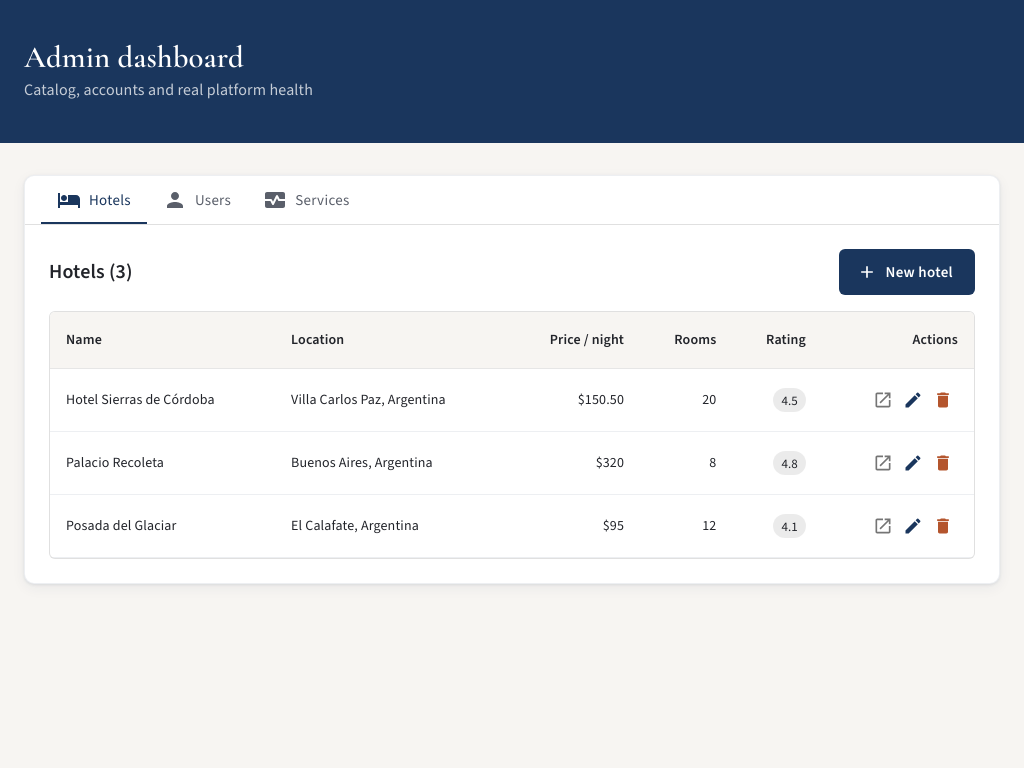
Test case: Admin Dashboard › self-delete: el botón del propio admin está deshabilitado con motivo
Click the tab "Users" at (197, 200), box [147,176,247,224]
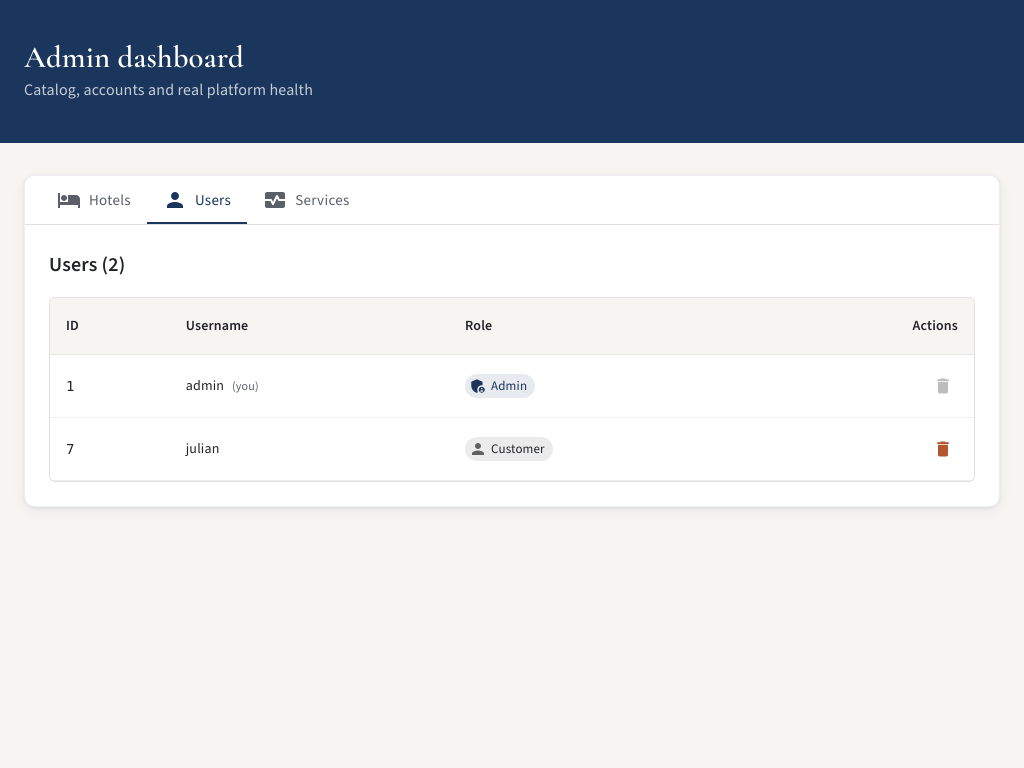
Expected: the button named "delete julian" is enabled, [928,434,958,464]
Expected: the button named "cannot delete your own account" is disabled, [928,371,958,401]
